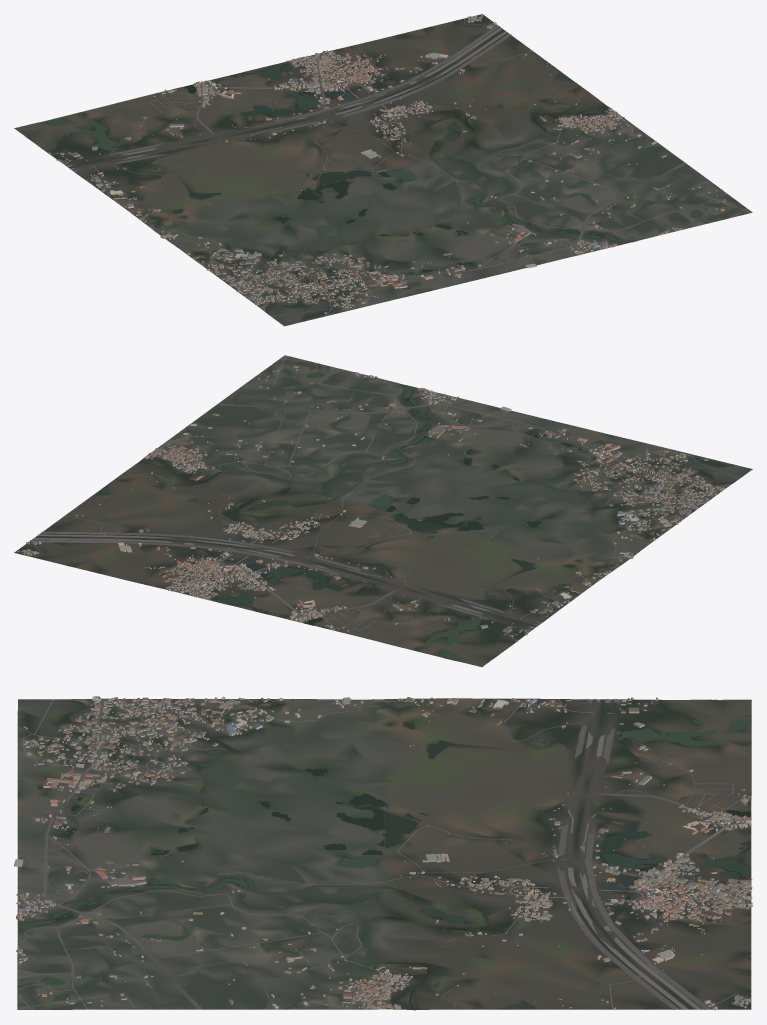
The picture shows the model from 3 angles, top to bottom: view 1: azimuth 30°, elevation 25°; view 2: azimuth 150°, elevation 25°; view 3: azimuth 270°, elevation 25°; orthographic projection. The views are drawn at different scales.
Visible parts, largest first — view 1: ground, buildings, roads, water; view 2: ground, buildings, roads, water; view 3: ground, buildings, roads, water.
Part boxes in pixels (left/top/right/bottom): ground: left=14, top=14, right=752, bottom=326; buildings: left=48, top=14, right=725, bottom=314; roads: left=23, top=16, right=751, bottom=323; water: left=42, top=62, right=724, bottom=273; ground: left=14, top=355, right=752, bottom=666; buildings: left=17, top=365, right=724, bottom=641; roads: left=20, top=355, right=739, bottom=660; water: left=96, top=366, right=598, bottom=660; ground: left=17, top=698, right=751, bottom=1010; buildings: left=14, top=696, right=752, bottom=1010; roads: left=17, top=698, right=751, bottom=1009; water: left=19, top=706, right=751, bottom=1009.
Bounding box in the file's own units: 2819 × 25.51 × 2823.
